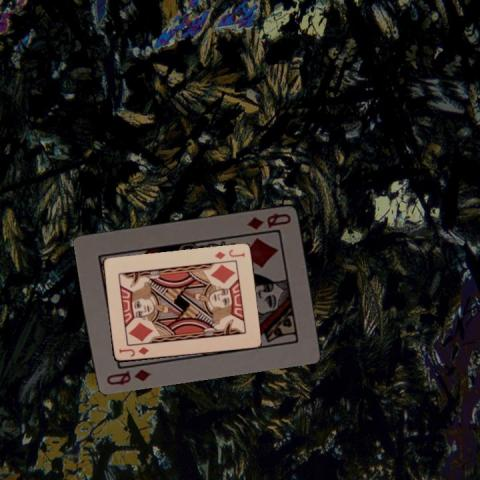Jd: (116, 344, 150, 359), (211, 246, 246, 260)
Qd: (244, 209, 293, 231), (104, 365, 153, 386)
